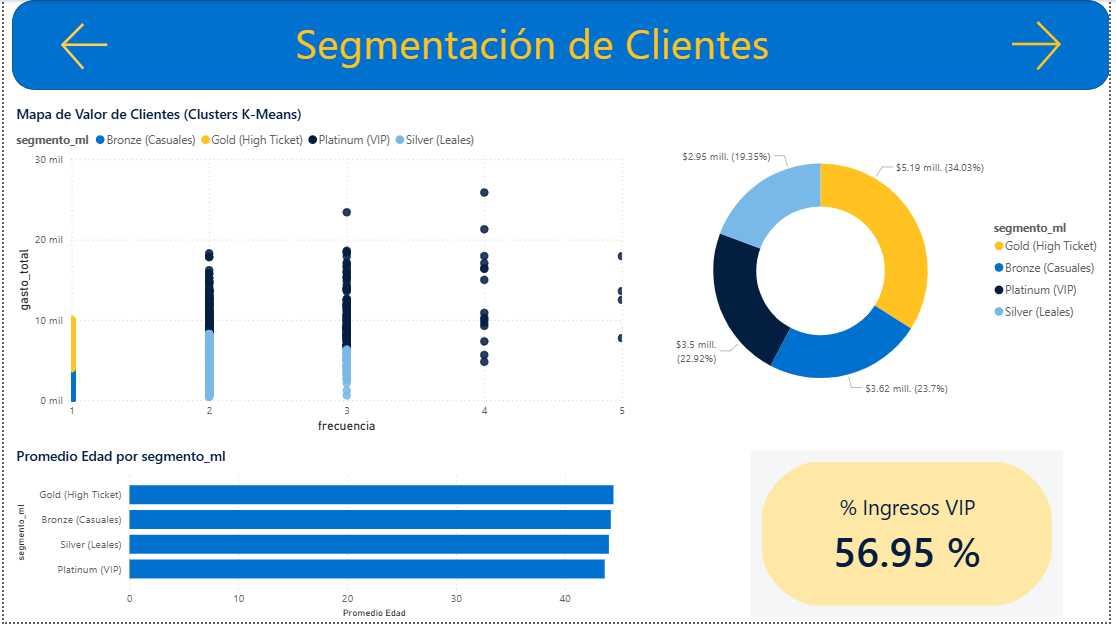

This screenshot's page, from the dashboard's own definition file:
{"tool":"powerbi","page":{"name":"Segmentación de Clientes","canvas":[1280,720],"ordinal":1},"visuals":[{"type":"shape","box":[9.2,0,1270.8,104.2],"z":0},{"type":"textbox","box":[332.5,11.2,615,80],"z":1000},{"type":"scatterChart","title":"Mapa de Valor de Clientes (Clusters K-Means)","fields":{"X":["Segmentos_Clientes.frecuencia"],"Y":["Segmentos_Clientes.gasto_total"],"Series":["Segmentos_Clientes.segmento_ml"]},"box":[8.8,120,715,386.2],"z":2000},{"type":"donutChart","fields":{"Category":["Segmentos_Clientes.segmento_ml"],"Y":["Medidas.Total Revenue"]},"box":[740,120,540,386.2],"z":3000},{"type":"barChart","fields":{"Category":["Segmentos_Clientes.segmento_ml"],"Y":["Medidas.Promedio Edad"]},"box":[8.8,516.2,715,203.8],"z":4000},{"type":"cardVisual","fields":{"Data":["Medidas.% Ingresos VIP"]},"box":[858.8,516.2,372.5,203.8],"z":5000},{"type":"actionButton","box":[43.8,15,100,72.5],"z":6000},{"type":"actionButton","box":[1131.2,11.2,127.5,76.2],"z":7000}]}

Visuals, with their boxes in screenshot pixels (x1, y1, x2, y2), scaled from the page's 1280x720 canvas onto the 1116x627 screenshot:
shape: (8, 0, 1115, 91)
textbox: (290, 10, 826, 79)
"Mapa de Valor de Clientes (Clusters K-Means)" scatterChart: (8, 104, 631, 441)
donutChart - Segmentos_Clientes.segmento_ml x Medidas.Total Revenue: (645, 104, 1115, 441)
barChart - Segmentos_Clientes.segmento_ml x Medidas.Promedio Edad: (8, 450, 631, 626)
cardVisual - Medidas.% Ingresos VIP: (749, 450, 1074, 626)
actionButton: (38, 13, 125, 76)
actionButton: (986, 10, 1097, 76)
